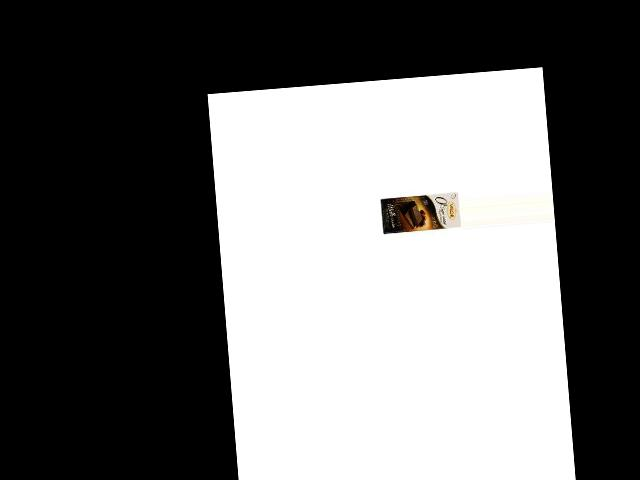chocolate: (379, 190, 461, 235)
